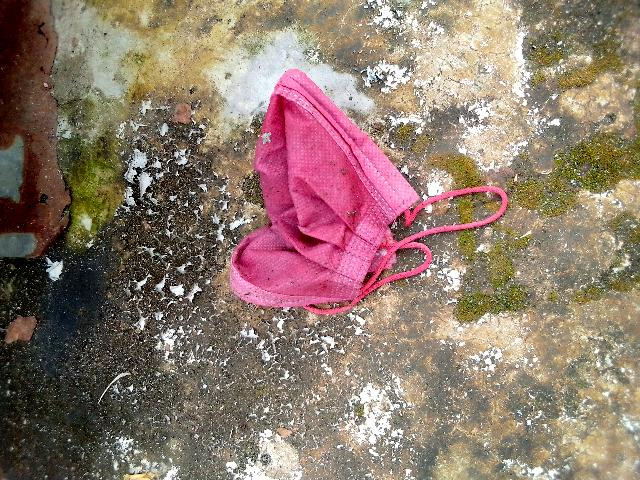mask: (183, 79, 438, 353)
